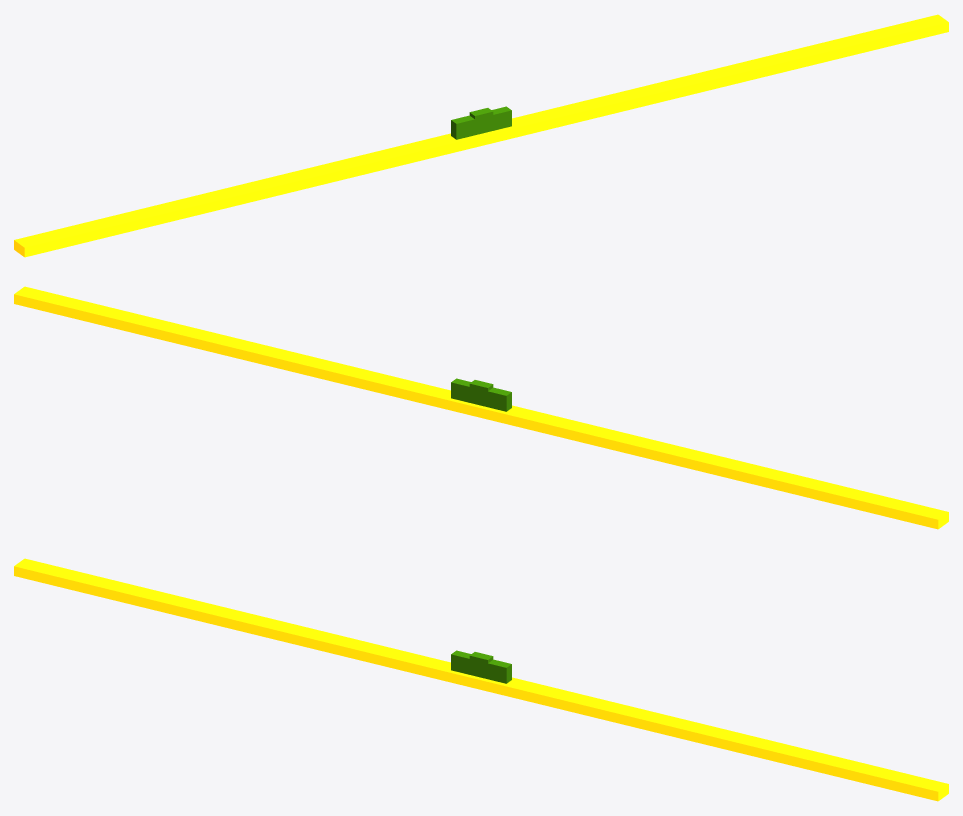
Rendered from world-01.gltf.
The picture shows the model from 3 angles, top to bottom: view 1: azimuth 30°, elevation 25°; view 2: azimuth 150°, elevation 25°; view 3: azimuth 330°, elevation 25°; orthographic projection.
Parts seen in each view (by area): view 1: world_base; view 2: world_base; view 3: world_base.
Boxes of the visible parts, box(x1,y1,x2,y2) form: world_base: box(14, 14, 948, 257); world_base: box(14, 286, 948, 529); world_base: box(14, 558, 948, 801).
Bounding box in the file's own units: 10 × 0.299 × 0.2.
